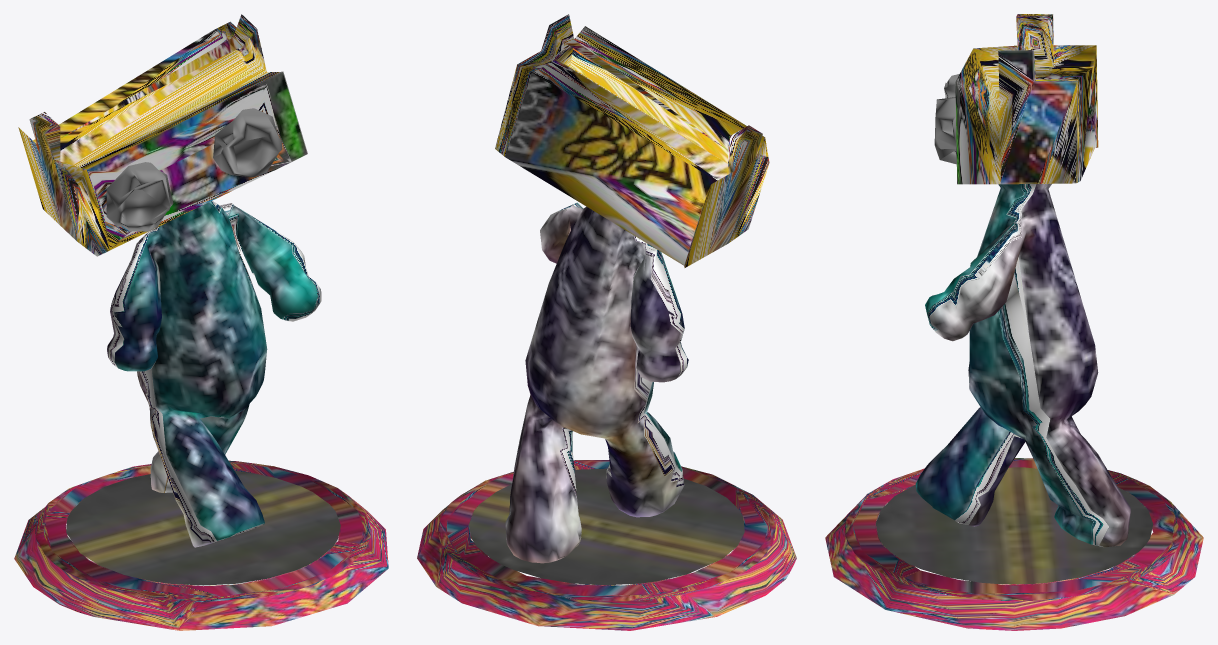
3 views of the same model, side by side, from view 1: azimuth 30°, elevation 25°; view 2: azimuth 150°, elevation 25°; view 3: azimuth 270°, elevation 25° (orthographic).
Size of the model in its own units: 1.45 by 2.19 by 1.43.
Materials: 5 (4 with a texture image).
